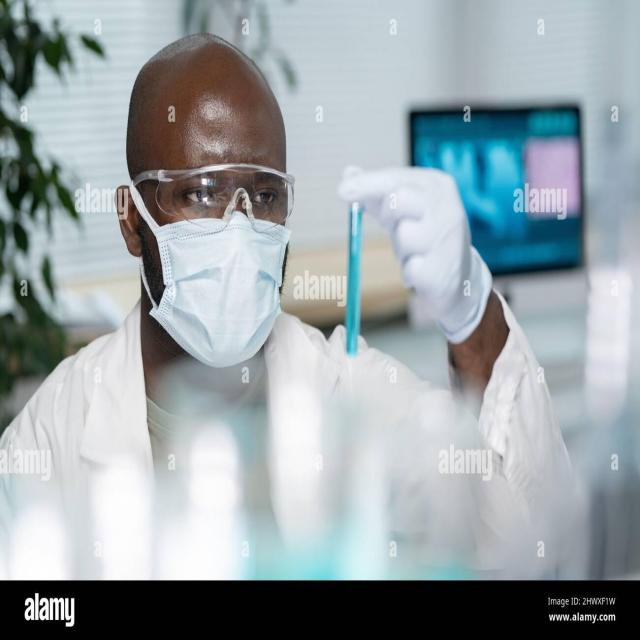Gloves: (343, 152, 502, 355)
Mask: (114, 177, 304, 375)
